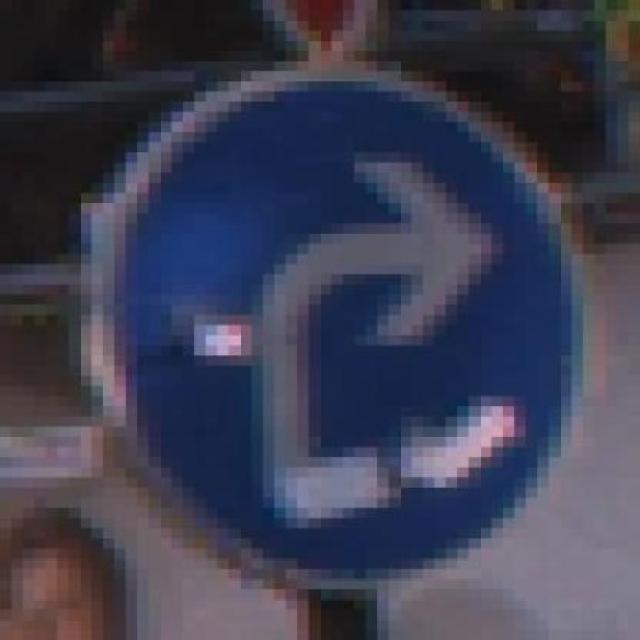Turn right ahead: (46, 50, 594, 579)
